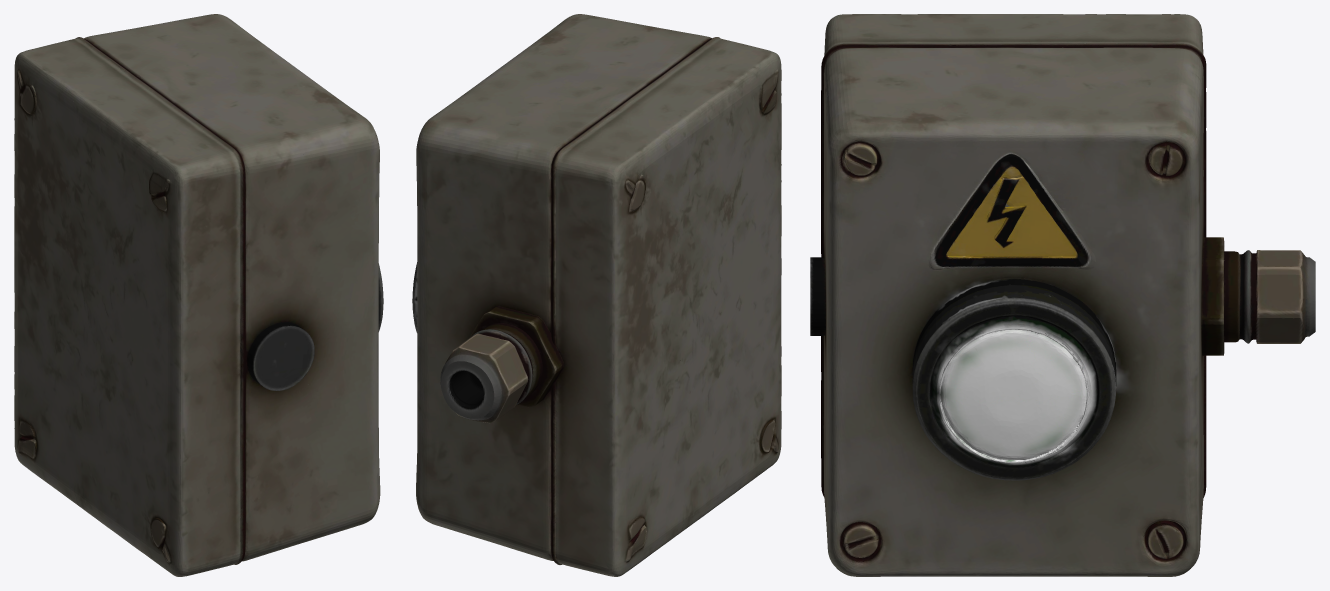
The model's file is tripo_convert_87fd96cc-f027-49b8-99c0-873f89320e4e.obj.
3 views of the same model, side by side, from view 1: azimuth 30°, elevation 25°; view 2: azimuth 150°, elevation 25°; view 3: azimuth 270°, elevation 25° (orthographic). The views are drawn at different scales.
Parts seen in each view (by area): view 1: tripo_node_87fd96cc-f027-49b8-99c0-873f89320e4e; view 2: tripo_node_87fd96cc-f027-49b8-99c0-873f89320e4e; view 3: tripo_node_87fd96cc-f027-49b8-99c0-873f89320e4e.
Boxes of the visible parts, x1,y1,x2,y2 form: tripo_node_87fd96cc-f027-49b8-99c0-873f89320e4e: [14, 14, 383, 576]; tripo_node_87fd96cc-f027-49b8-99c0-873f89320e4e: [412, 14, 781, 576]; tripo_node_87fd96cc-f027-49b8-99c0-873f89320e4e: [810, 14, 1315, 576].
Size of the model in its own units: 0.6534 by 1 by 0.9807.
Materials: 1 (1 with a texture image).
